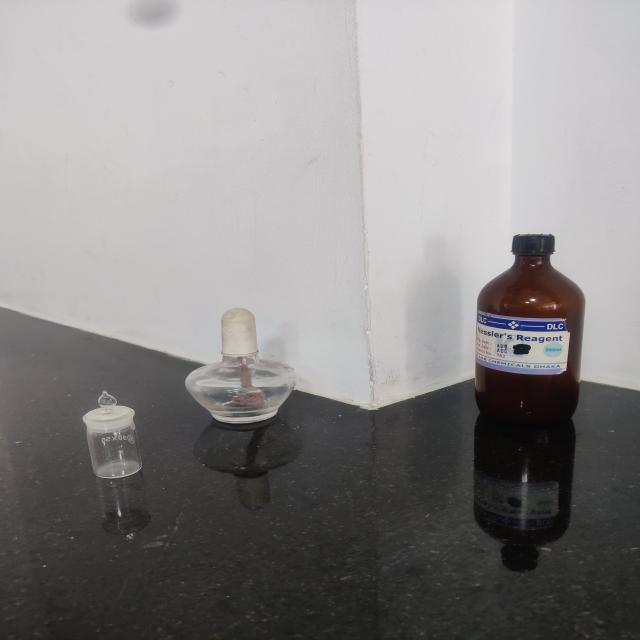Nessler_Reagent_Bottle: (406, 203, 640, 463)
Spirit_Lamp: (175, 276, 321, 456)
Weighing_Bottle: (54, 370, 157, 499)
